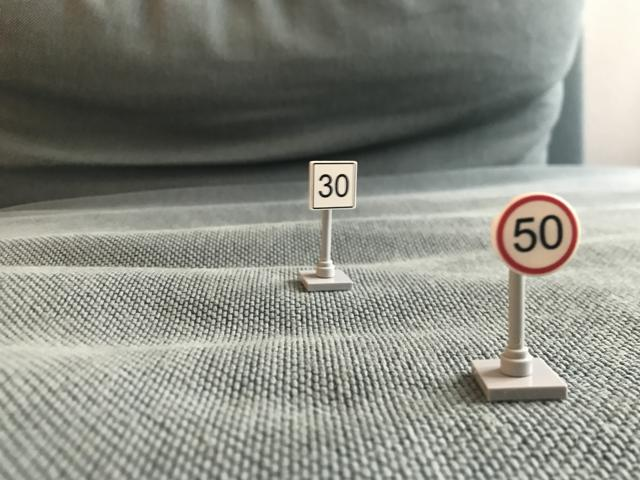tempolimit 30: (306, 159, 360, 211)
tempolimit 50: (496, 195, 582, 274)
